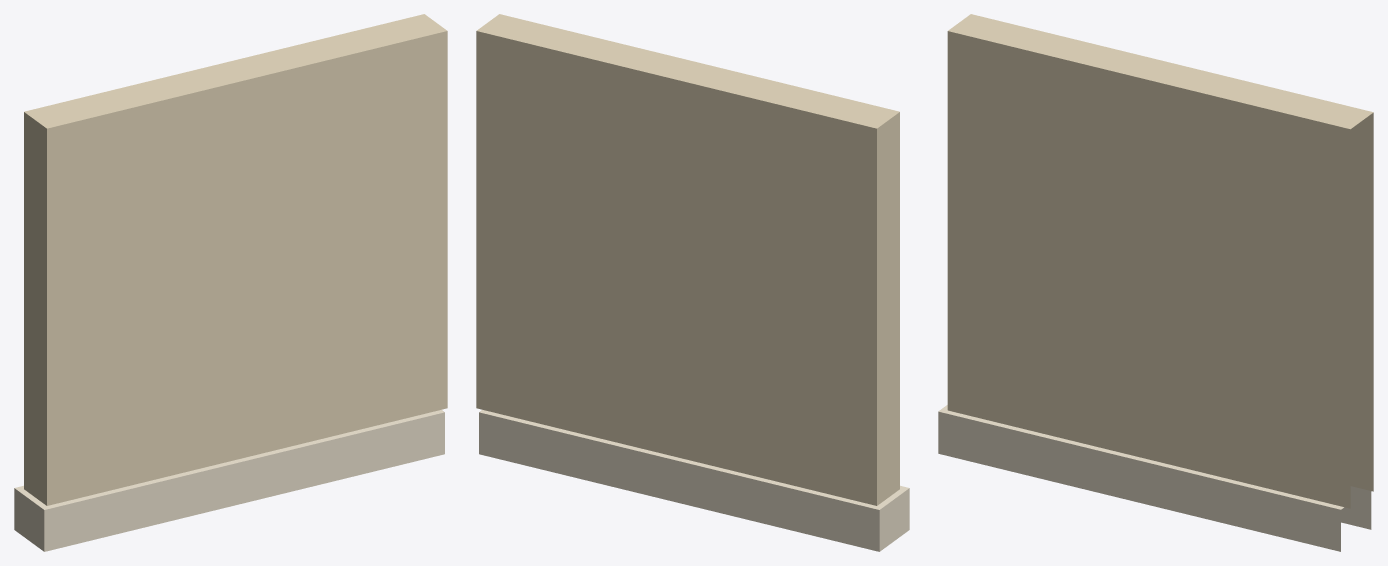
File: Mesh_Wall_Int_Edge_2M.fbx
3 renders of one model, left to right at view 1: azimuth 30°, elevation 25°; view 2: azimuth 150°, elevation 25°; view 3: azimuth 330°, elevation 25°, orthographic.
Parts seen in each view (by area): view 1: Wall_Inner_edge_2M; view 2: Wall_Inner_edge_2M; view 3: Wall_Inner_edge_2M.
Boxes of the visible parts, x1=… form: Wall_Inner_edge_2M: x1=14, y1=14, x2=447, y2=551; Wall_Inner_edge_2M: x1=476, y1=14, x2=909, y2=551; Wall_Inner_edge_2M: x1=938, y1=14, x2=1373, y2=551.
Size of the model in its own units: 203 by 200 by 26.
